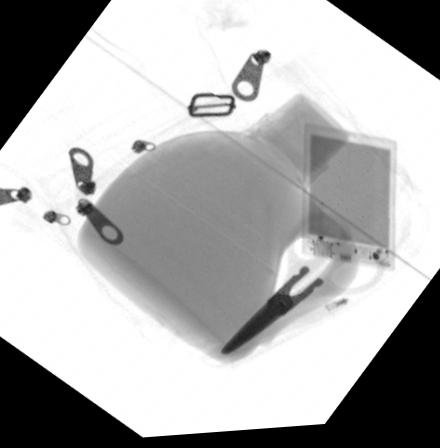Powerbank: (297, 121, 399, 276)
Scissors: (217, 210, 385, 359)
